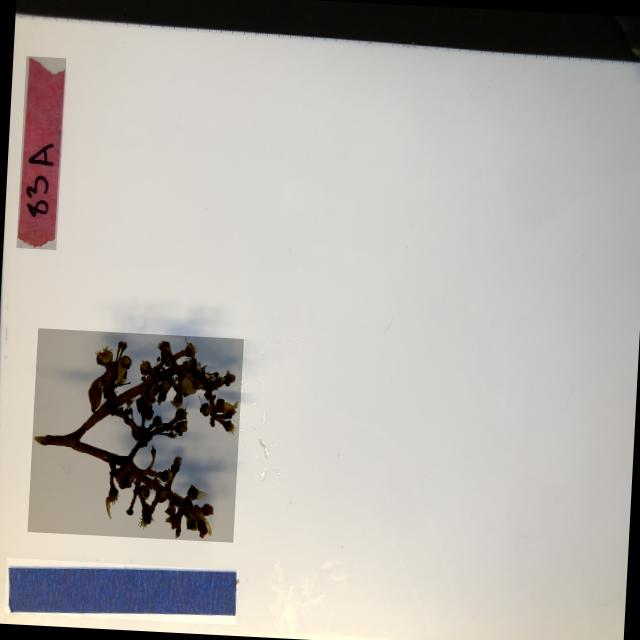index: (17, 55, 67, 248)
measure_label: (4, 557, 239, 624)
rachis_cluster: (28, 326, 245, 542)
